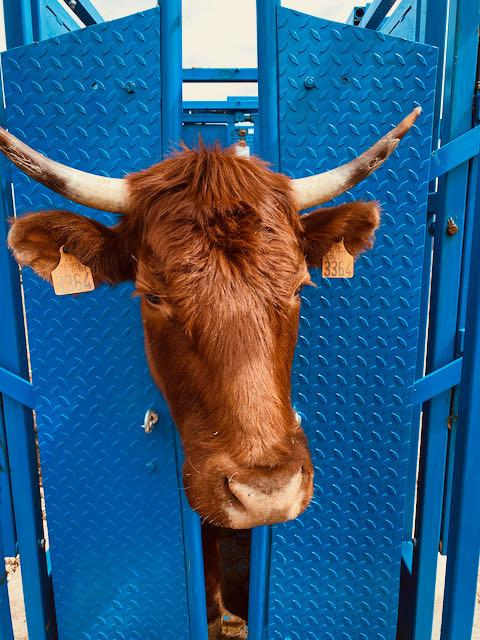muzzles: (181, 464, 321, 537)
